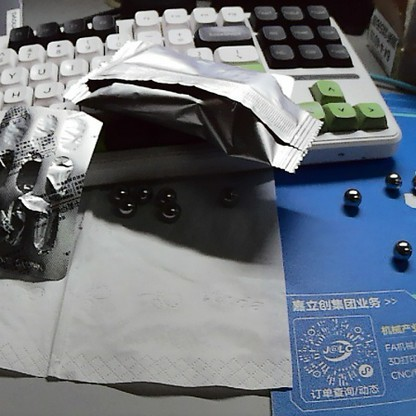ironball: (215, 181, 257, 215), (107, 178, 143, 210), (390, 236, 414, 269), (113, 196, 142, 222), (336, 183, 364, 207), (161, 202, 191, 224), (153, 184, 181, 206), (380, 165, 407, 187), (129, 186, 152, 204)
